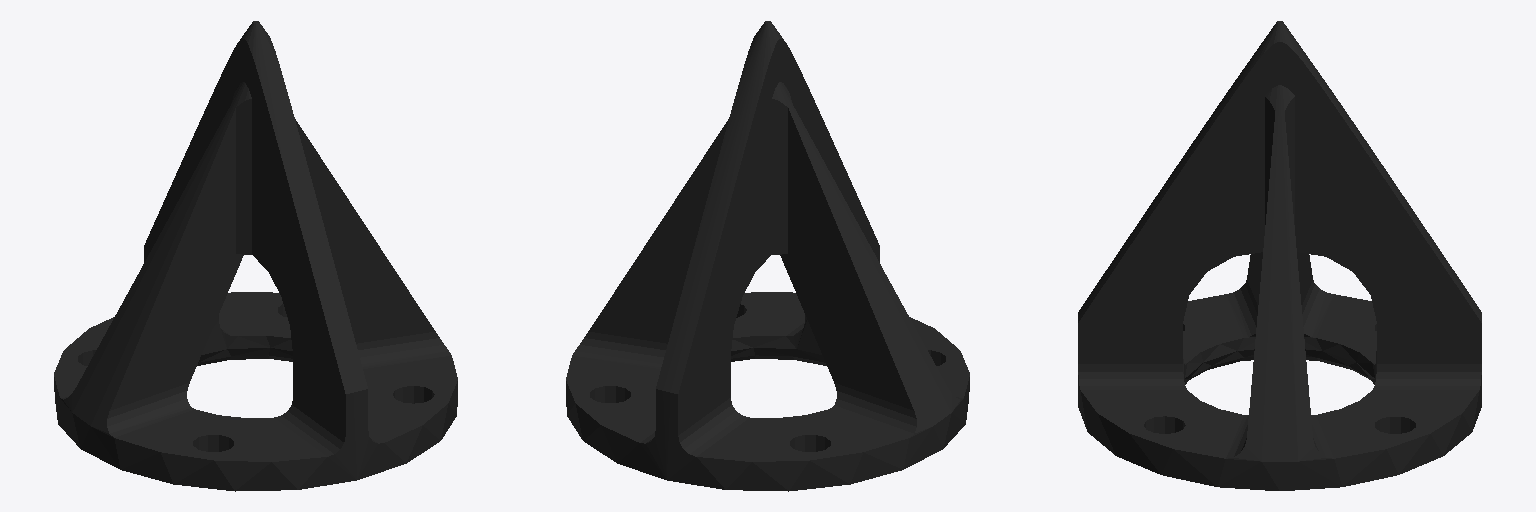
URDF robot description (puntero_kr6):
<?xml version="1.0" ?>
<robot name="puntero_kr6">
  <link name="baseLink">
    <inertial>
      <origin rpy="0 0 0" xyz="0 0 0"/>
       <mass value="0.3"/>
       <inertia ixx="1" ixy="0" ixz="0" iyy="1" iyz="0" izz="1"/>
    </inertial>
    <visual>
      <origin rpy="0 0 0" xyz="0 0 0"/>
      <geometry>
				<mesh filename="package://meshes/visual/puntero_kr6.stl" />
      </geometry>
       <material name="Grey Black">
        <color rgba="0.2 0.2 0.2 1"/>
      </material>
    </visual>
    <collision>
      <origin rpy="0 0 0" xyz="0 0 0"/>
      <geometry>
            <mesh filename="package://meshes/collision/puntero_kr6.stl" />
      </geometry>
    </collision>
  </link>
</robot>

--- Facts derived from the render (not from the file) ---
The picture shows the robot from 3 angles, left to right: view 1: azimuth 30°, elevation 25°; view 2: azimuth 150°, elevation 25°; view 3: azimuth 270°, elevation 25°; orthographic projection.
Model puntero_kr6 with 1 links and 0 joints (none), rooted at baseLink, posed every joint at zero.
Links seen in each view (by area): view 1: baseLink; view 2: baseLink; view 3: baseLink.
Link boxes in pixels (x1,y1,x2,y2): baseLink: (54, 21, 457, 491); baseLink: (566, 21, 969, 491); baseLink: (1078, 21, 1481, 490).
Bounding box of the posed robot: 0.062 × 0.062 × 0.065 m (x, y, z).
Meshes: 1 distinct files referenced, 1 mesh visuals loaded (1 binary STL).